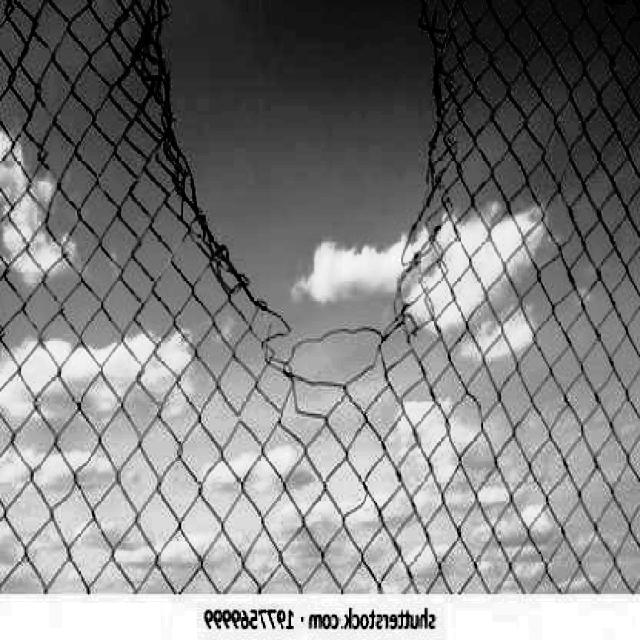anomaly-fence: (111, 0, 520, 405)
